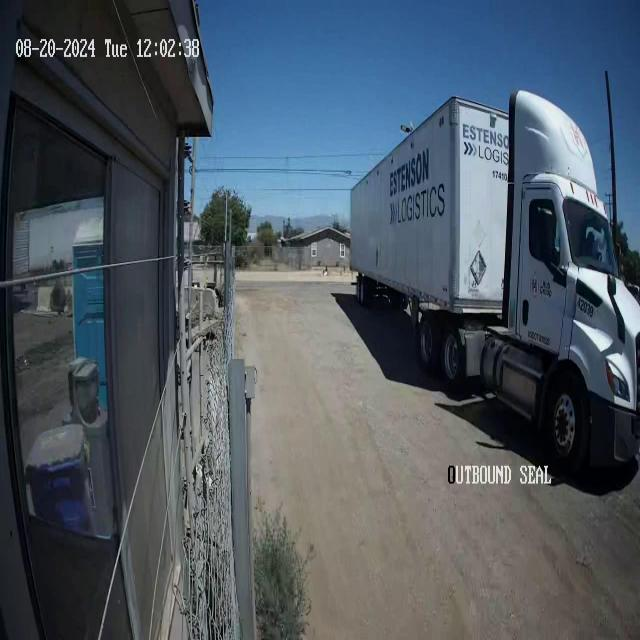TRUCK_CONTAINER: (349, 87, 639, 477)
